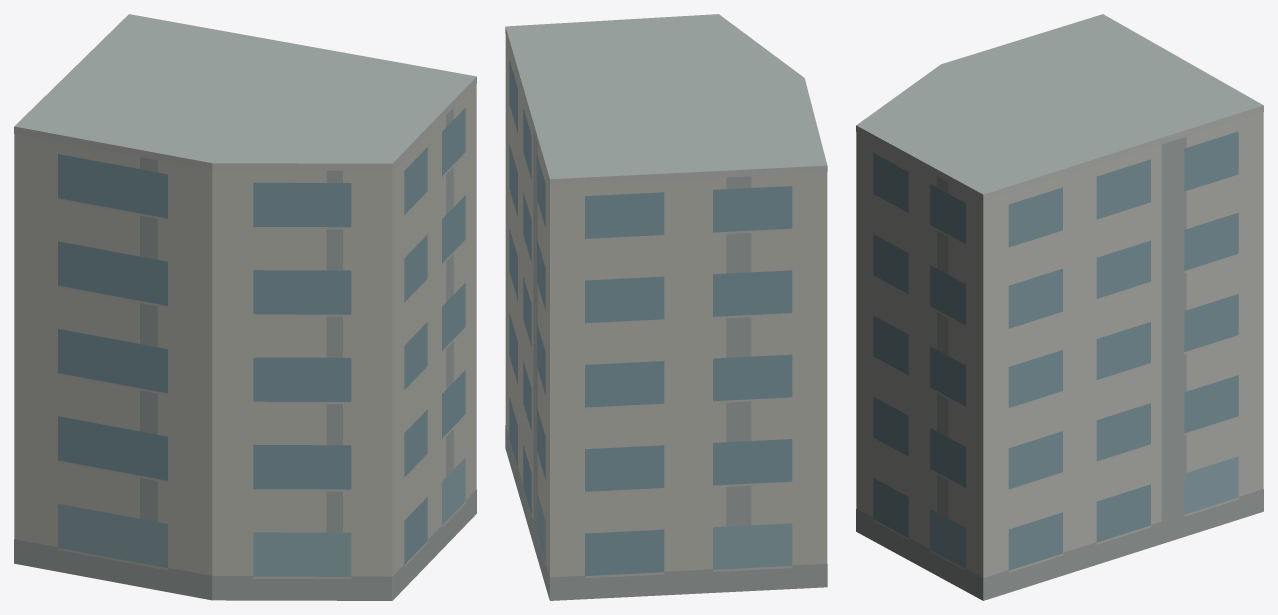
The model's file is survey-upis-32766144.glb.
3 views of the same model, side by side, from view 1: azimuth 30°, elevation 25°; view 2: azimuth 150°, elevation 25°; view 3: azimuth 270°, elevation 25° (orthographic). The views are drawn at different scales.
Parts seen in each view (by area): view 1: survey-upis-32766144.tmp; view 2: survey-upis-32766144.tmp; view 3: survey-upis-32766144.tmp.
Part boxes in pixels (x1,y1,x2,y2): survey-upis-32766144.tmp: (14,14,476,600); survey-upis-32766144.tmp: (505,14,827,600); survey-upis-32766144.tmp: (856,14,1263,600).
Bounding box in the file's own units: 14.21 × 14.9 × 13.56.
